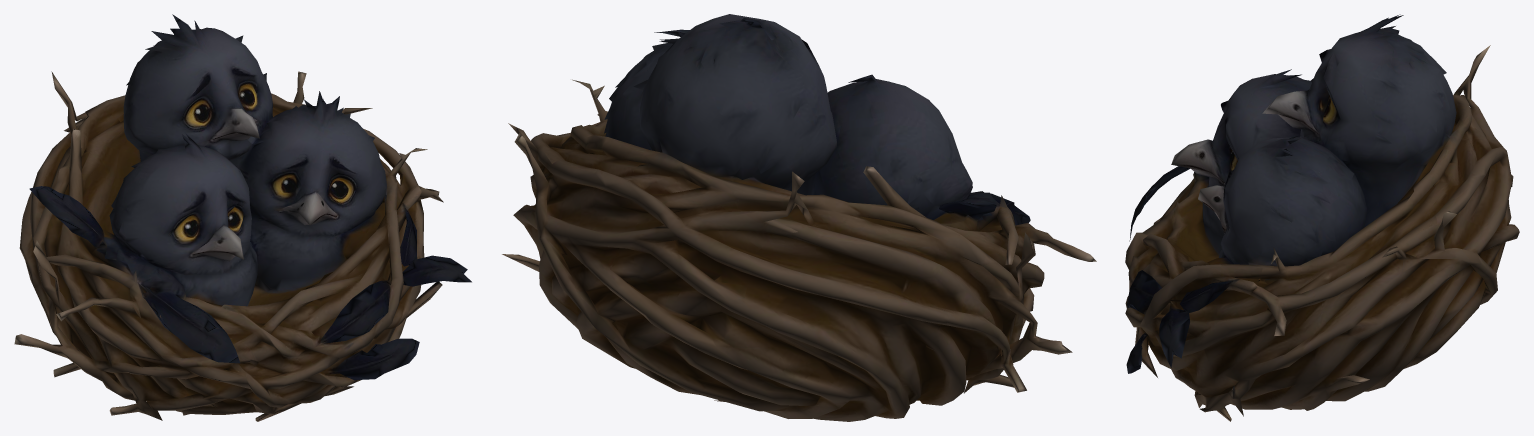
The model's file is chicks.glb.
3 views of the same model, side by side, from view 1: azimuth 30°, elevation 25°; view 2: azimuth 150°, elevation 25°; view 3: azimuth 270°, elevation 25° (orthographic). The views are drawn at different scales.
Parts seen in each view (by area): view 1: tripo_node_7d0b196d-b36f-46cb-8695-ed50d9dd3191; view 2: tripo_node_7d0b196d-b36f-46cb-8695-ed50d9dd3191; view 3: tripo_node_7d0b196d-b36f-46cb-8695-ed50d9dd3191.
Part boxes in pixels (x1,y1,x2,y2): tripo_node_7d0b196d-b36f-46cb-8695-ed50d9dd3191: (14,14,471,421); tripo_node_7d0b196d-b36f-46cb-8695-ed50d9dd3191: (502,14,1096,421); tripo_node_7d0b196d-b36f-46cb-8695-ed50d9dd3191: (1125,14,1519,421).
Bounding box in the file's own units: 1.6 × 1.23 × 1.21.
1 material, 1 textured.
